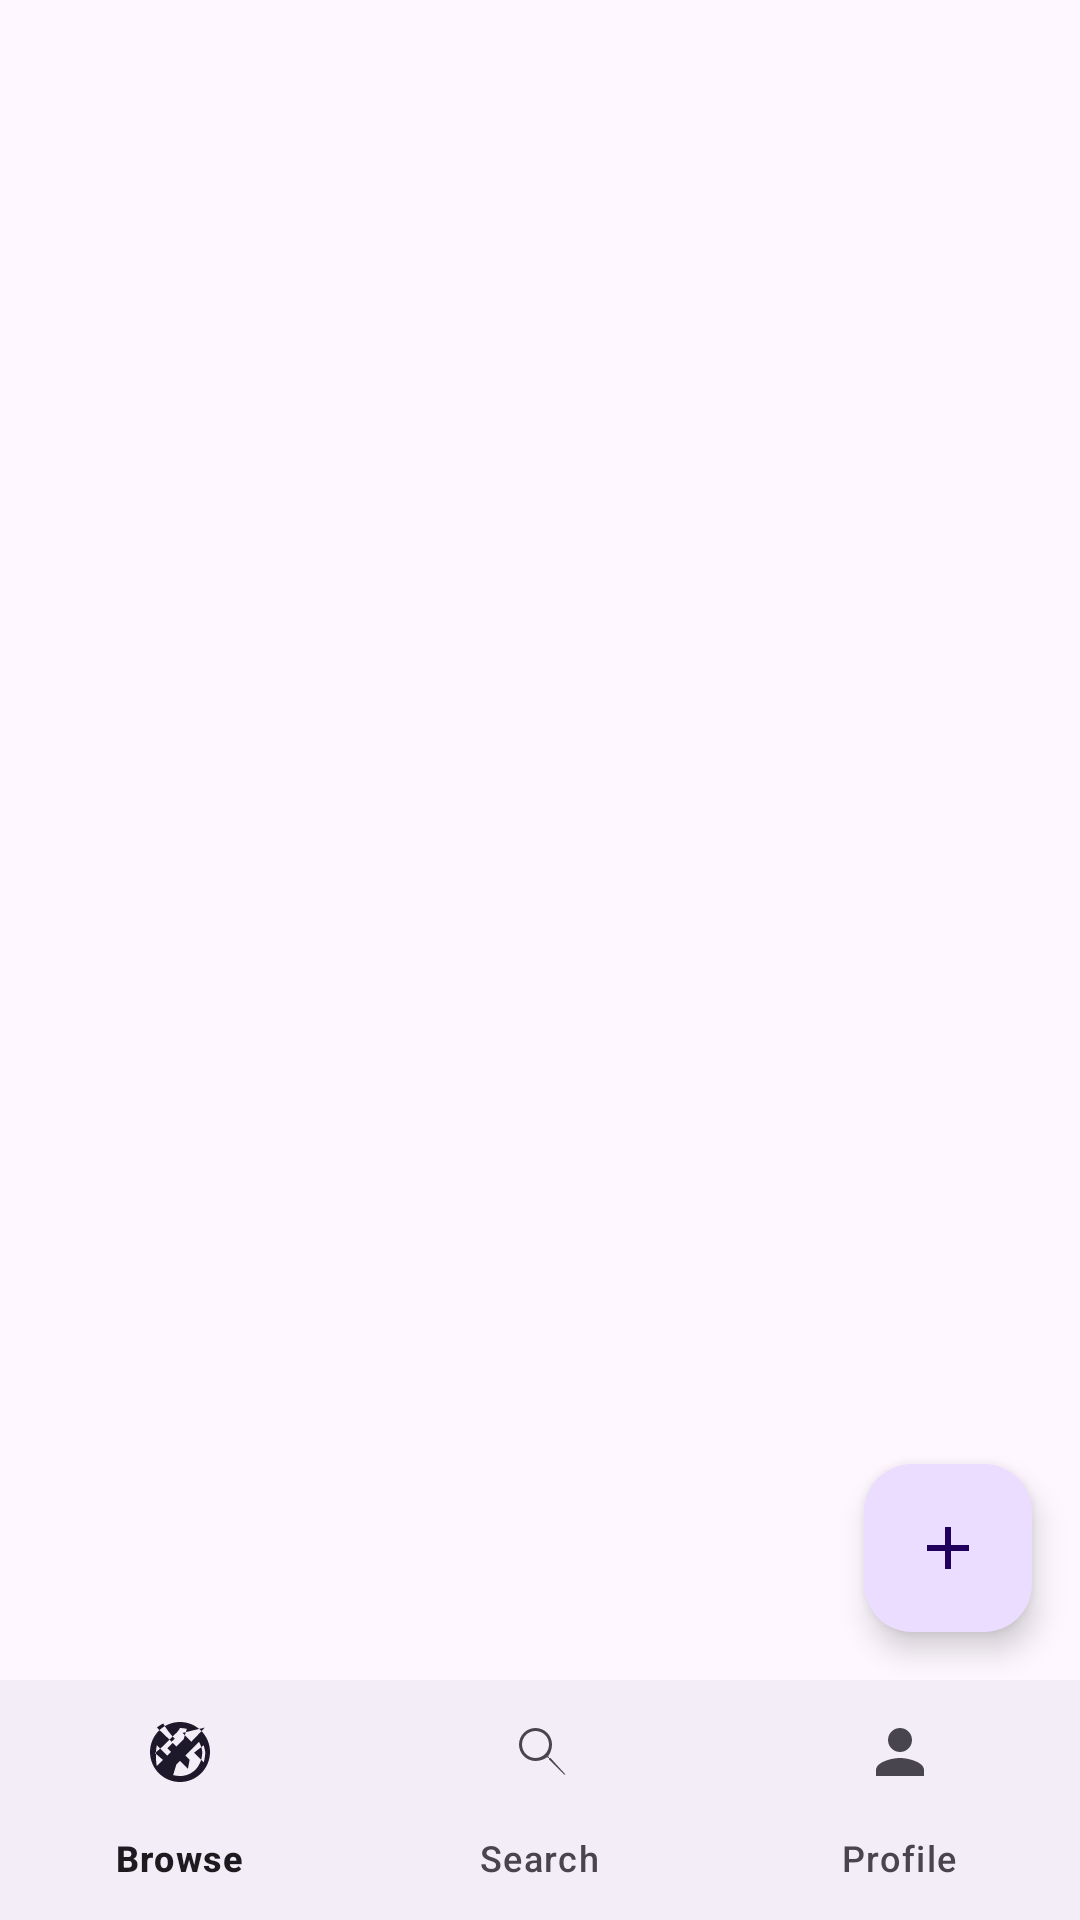

Where to tap for icons on this 1080w x 1920h app screen, as (x=x, y=y):
Upload Item: (x=948, y=1548)
